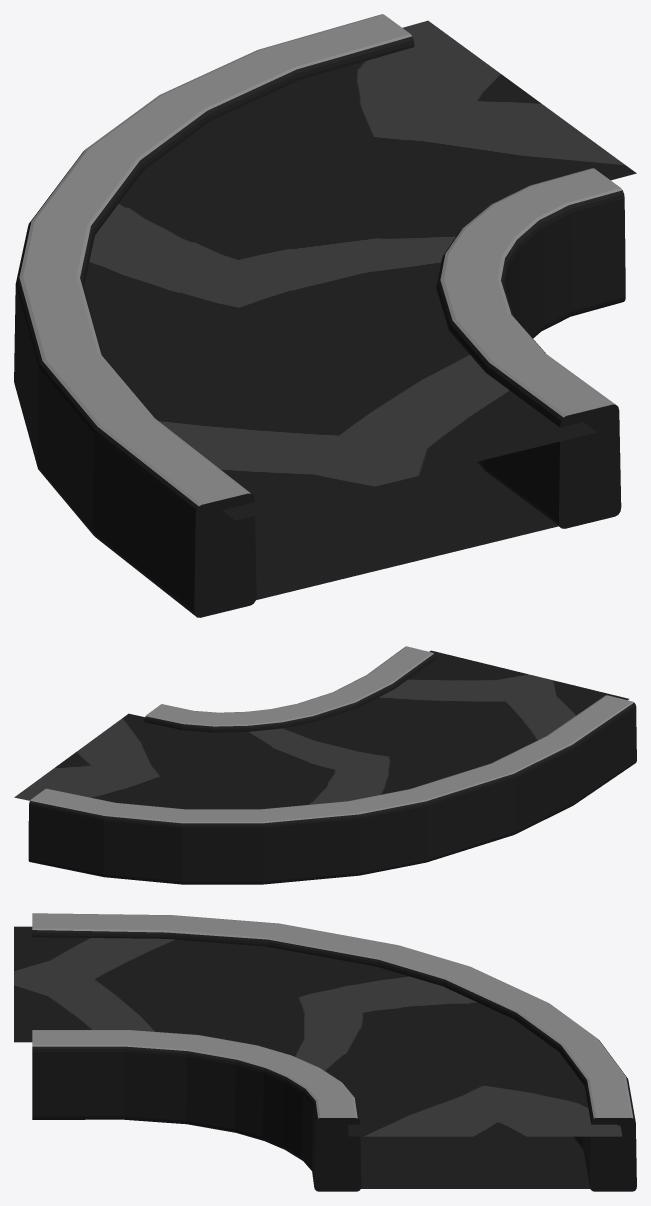
Rendered from textcorner_band.fbx.
3 renders of one model, top to bottom at view 1: azimuth 30°, elevation 25°; view 2: azimuth 150°, elevation 25°; view 3: azimuth 270°, elevation 25°, orthographic. The views are drawn at different scales.
Parts seen in each view (by area): view 1: Plane.001; view 2: Plane.001; view 3: Plane.001.
Part boxes in pixels (left/top/right/bottom): Plane.001: left=14, top=14, right=636, bottom=617; Plane.001: left=14, top=646, right=636, bottom=884; Plane.001: left=14, top=913, right=636, bottom=1191.
Bounding box in the file's own units: 80.11 × 12.61 × 96.41.
3 materials, 1 textured.
